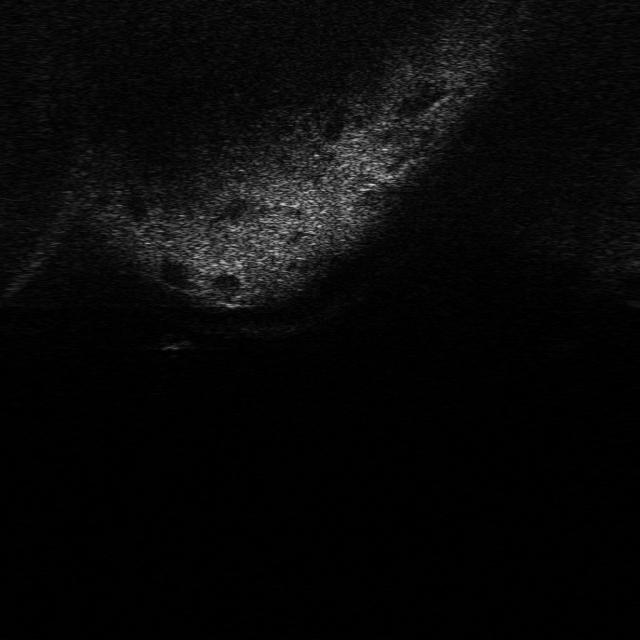cube: (148, 327, 197, 352)
